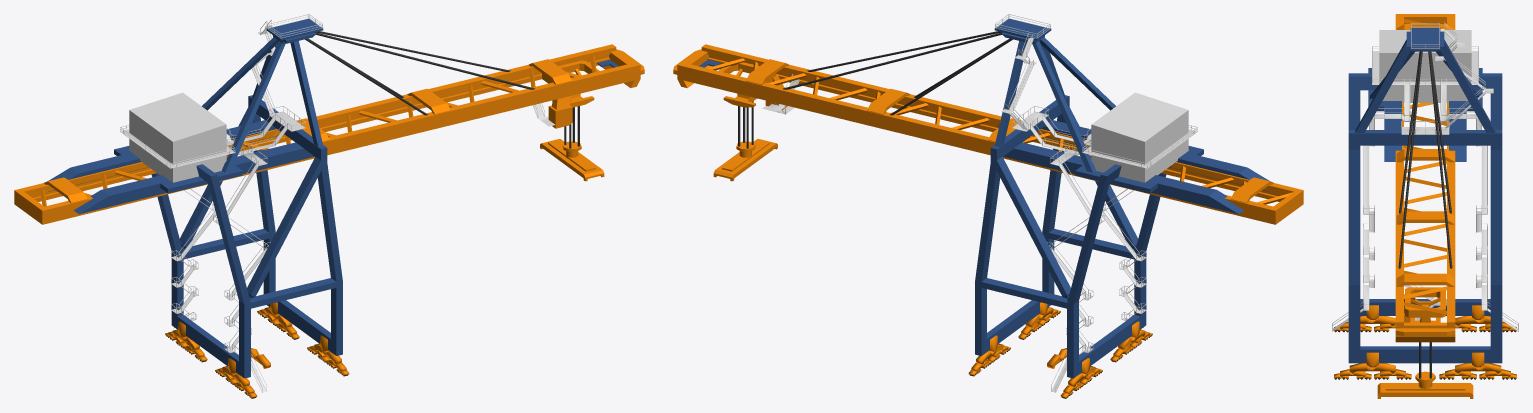
File: HarborCrane.fbx
The picture shows the model from 3 angles, left to right: view 1: azimuth 30°, elevation 25°; view 2: azimuth 150°, elevation 25°; view 3: azimuth 270°, elevation 25°; orthographic projection. The views are drawn at different scales.
Parts seen in each view (by area): view 1: Crane_Body, Catwalks, Trolley, Wheels, Ropes; view 2: Crane_Body, Catwalks, Wheels, Trolley, Ropes; view 3: Crane_Body, Catwalks, Wheels, Trolley, Ropes.
Part boxes in pixels (<box>): Crane_Body: <box>14,18,644,378</box>; Catwalks: <box>120,14,554,392</box>; Trolley: <box>540,60,604,181</box>; Wheels: <box>165,302,349,398</box>; Ropes: <box>305,31,534,115</box>; Crane_Body: <box>673,18,1303,378</box>; Catwalks: <box>762,14,1197,392</box>; Wheels: <box>968,302,1152,398</box>; Trolley: <box>713,62,787,181</box>; Ropes: <box>783,31,1012,115</box>; Crane_Body: <box>1348,14,1502,363</box>; Catwalks: <box>1332,22,1518,331</box>; Wheels: <box>1334,305,1516,379</box>; Trolley: <box>1377,287,1473,398</box>; Ropes: <box>1398,51,1452,268</box>.
Size of the model in its own units: 594 by 309 by 150.
